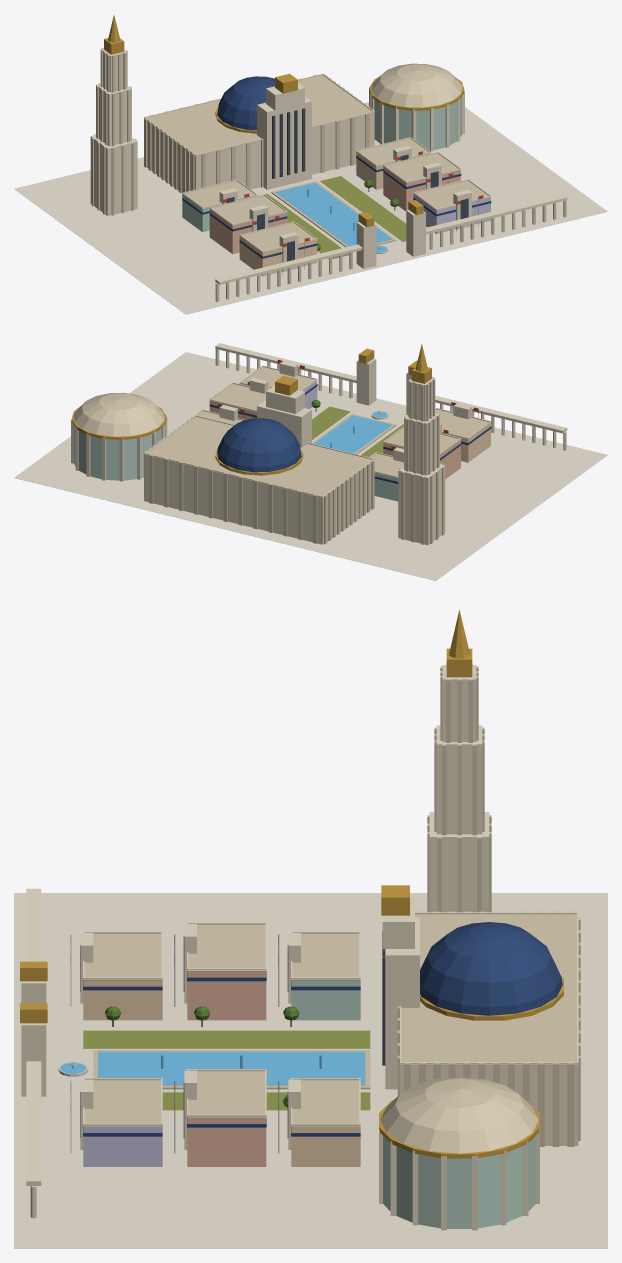
Rendered from mega_exposition_3.glb.
3 views of the same model, one above another, from view 1: azimuth 30°, elevation 25°; view 2: azimuth 150°, elevation 25°; view 3: azimuth 270°, elevation 25° (orthographic). The views are drawn at different scales.
Parts seen in each view (by area): view 1: mega_exposition_3; view 2: mega_exposition_3; view 3: mega_exposition_3.
Boxes of the visible parts, bbox=[...] form: mega_exposition_3: bbox=[14, 15, 607, 314]; mega_exposition_3: bbox=[14, 343, 607, 580]; mega_exposition_3: bbox=[14, 609, 607, 1248].
Size of the model in its own units: 170 by 74 by 120.
